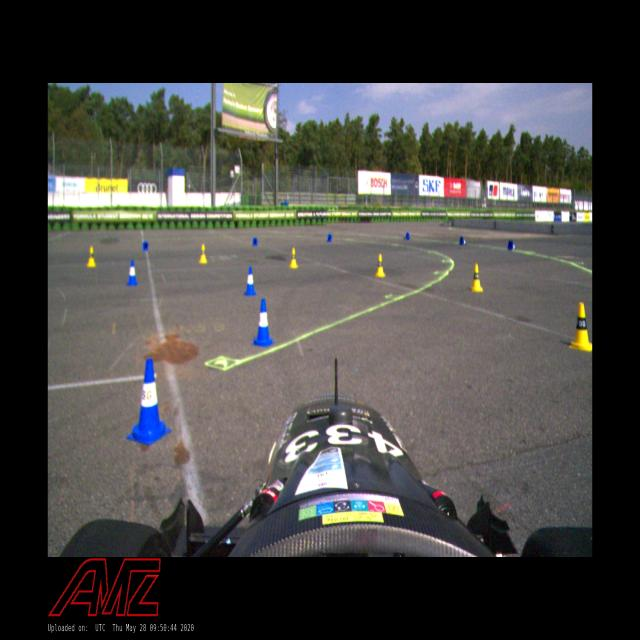blue_cone: (126, 358, 172, 444), (252, 299, 274, 347), (243, 266, 258, 296), (125, 260, 139, 286), (507, 240, 516, 250), (142, 240, 150, 250), (459, 237, 467, 246), (252, 237, 258, 247), (404, 231, 410, 240), (327, 234, 332, 242)
yellow_cone: (570, 301, 592, 351), (472, 264, 484, 292), (85, 245, 96, 268), (376, 253, 386, 277), (289, 247, 299, 269), (198, 244, 208, 264)
